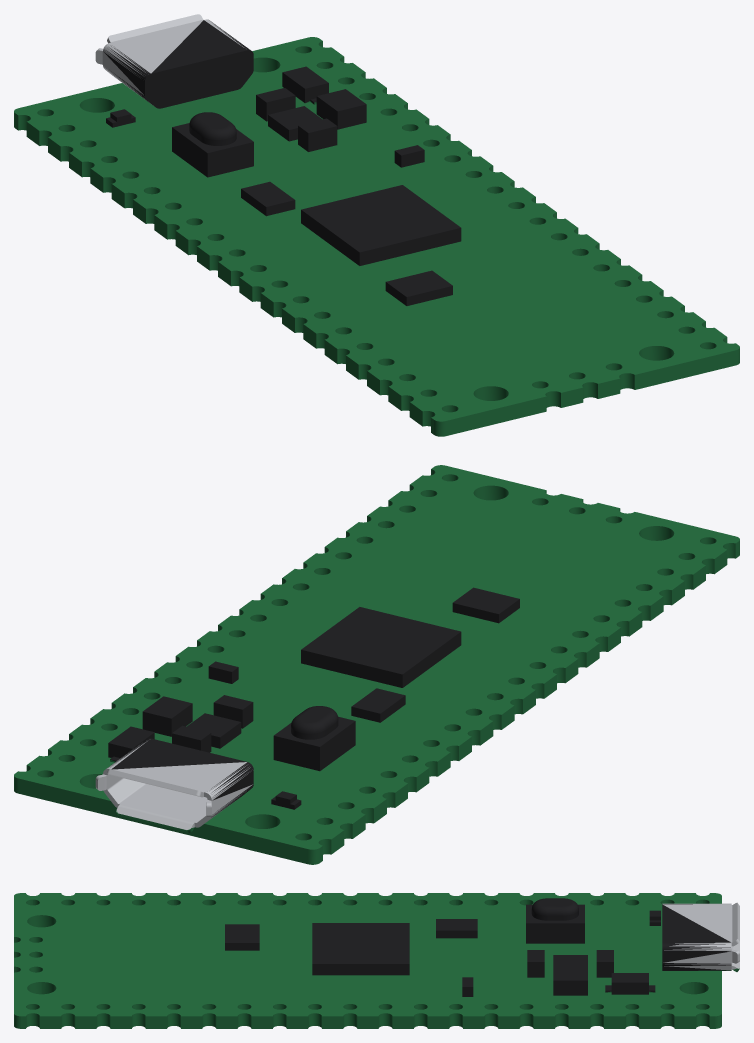
The model's file is rpi-pico.glb.
3 renders of one model, top to bottom at view 1: azimuth 30°, elevation 25°; view 2: azimuth 150°, elevation 25°; view 3: azimuth 270°, elevation 25°, orthographic. The views are drawn at different scales.
Bounding box in the file's own units: 21 × 3.7 × 52.3.
